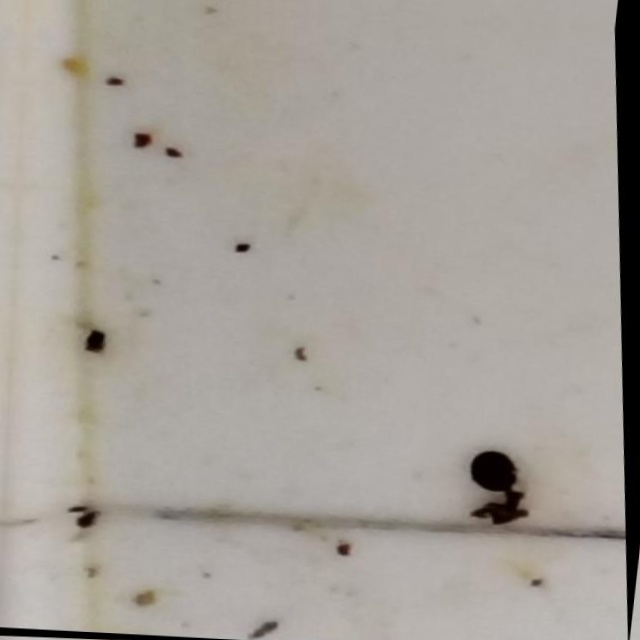varroa: (467, 445, 524, 495)
